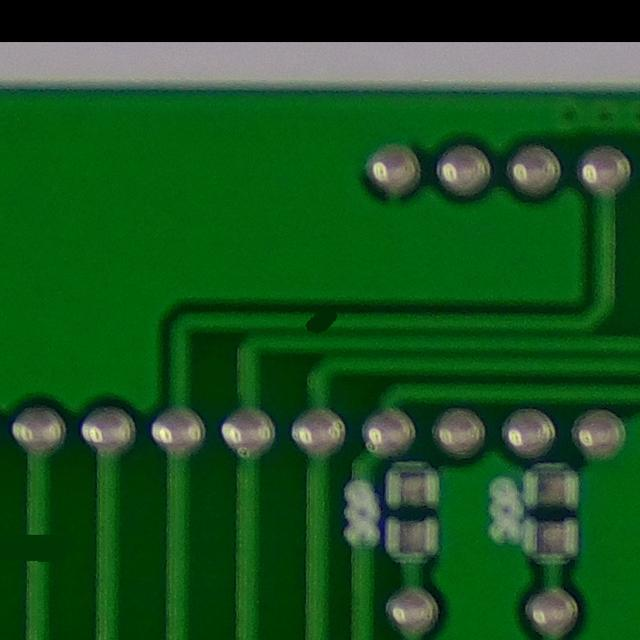open_circuit: (294, 304, 346, 335)
